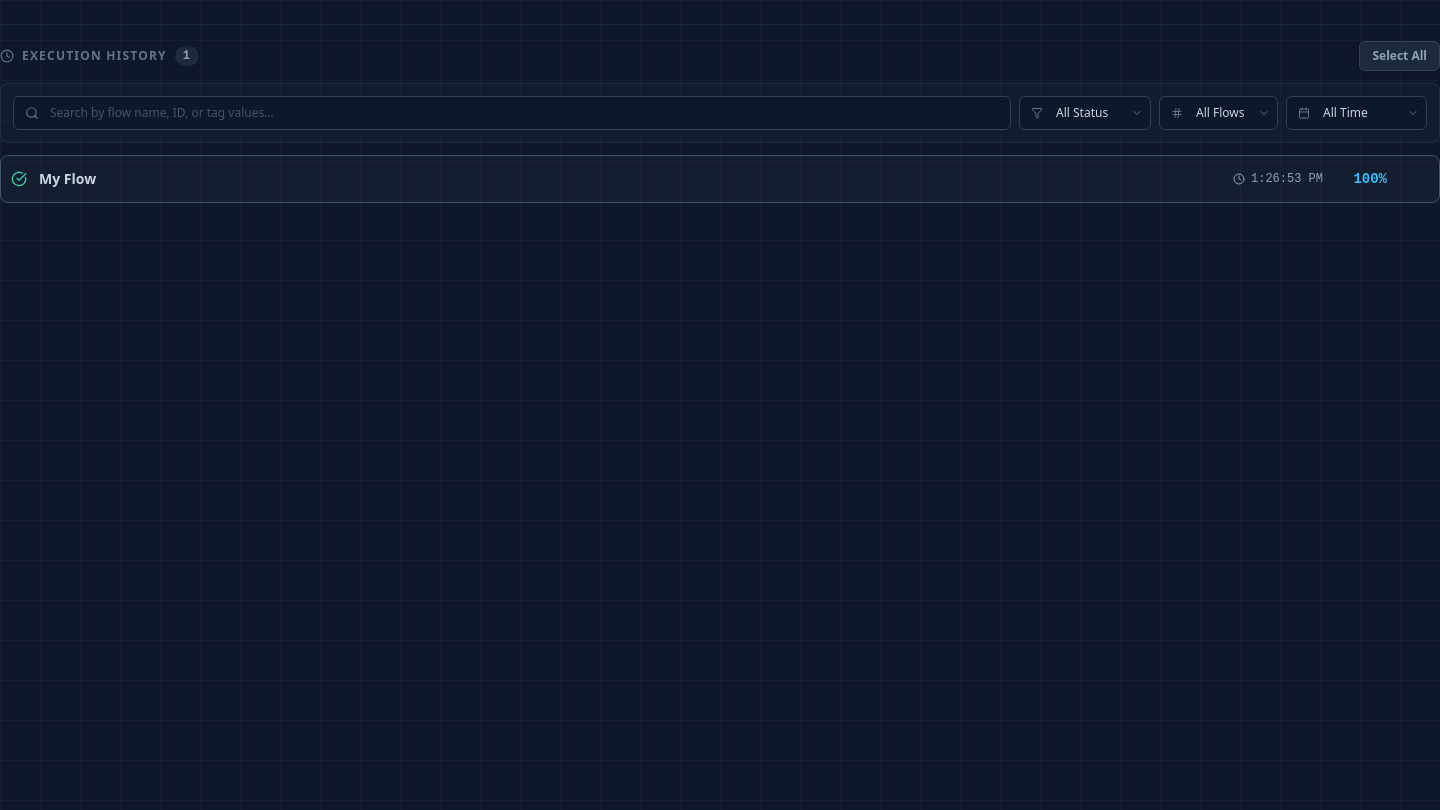
Test: HistoryPanel › clicking bulk Delete opens confirm dialog
Step 1. Click the button "Select All" → coordinates (1400, 56), box [1359,41,1439,71]
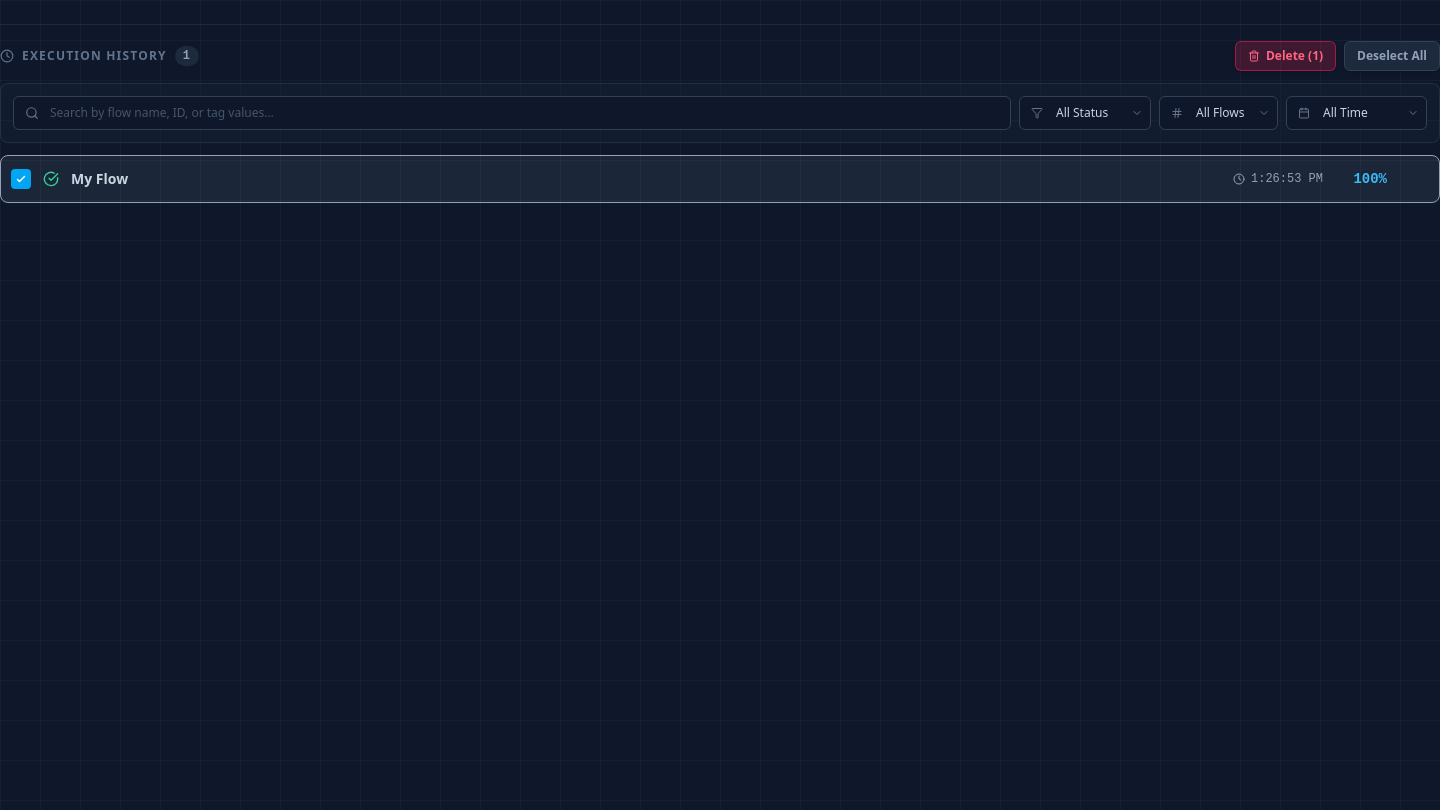
Step 2. Click the button "Delete (1)" → coordinates (1286, 56), box [1235,41,1336,71]
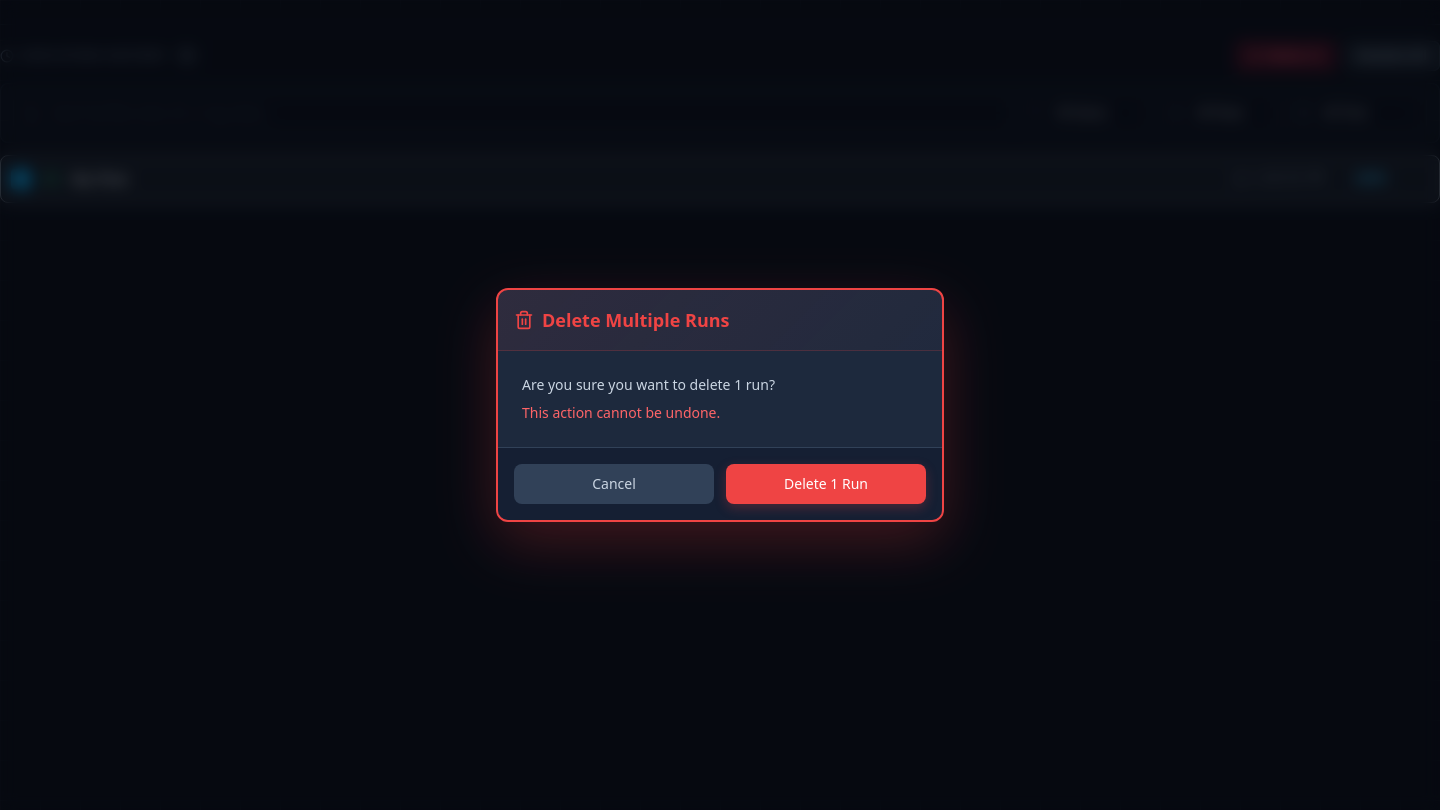
Check: the heading "Delete Multiple Runs" is shown, box [514,308,730,332]
